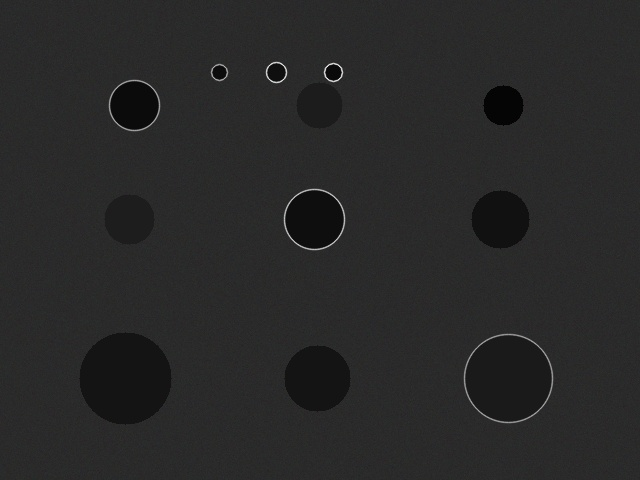hole: (79, 332, 171, 424), (464, 334, 552, 422), (284, 345, 350, 411), (284, 189, 344, 249), (471, 190, 529, 248), (109, 80, 159, 130), (104, 194, 154, 244), (296, 82, 342, 128), (483, 85, 523, 125), (266, 62, 286, 82), (324, 63, 342, 81), (211, 64, 227, 80)
